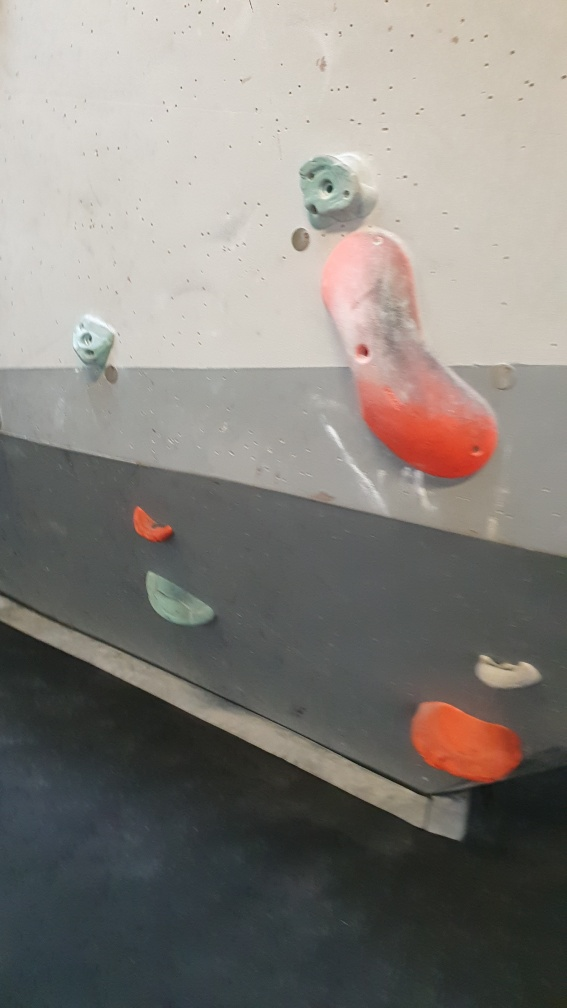Hand Start: (490, 359, 522, 395), (288, 225, 312, 253), (101, 359, 120, 387)
Jug: (477, 654, 541, 695), (131, 504, 175, 544)
Pinch: (321, 227, 497, 483)
